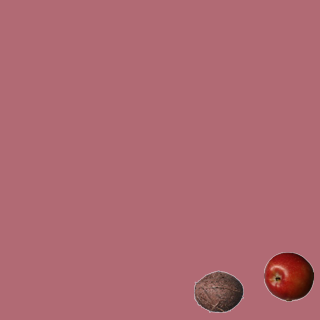Apple Braeburn: (263, 251, 313, 301)
Cocos: (193, 266, 243, 316)
